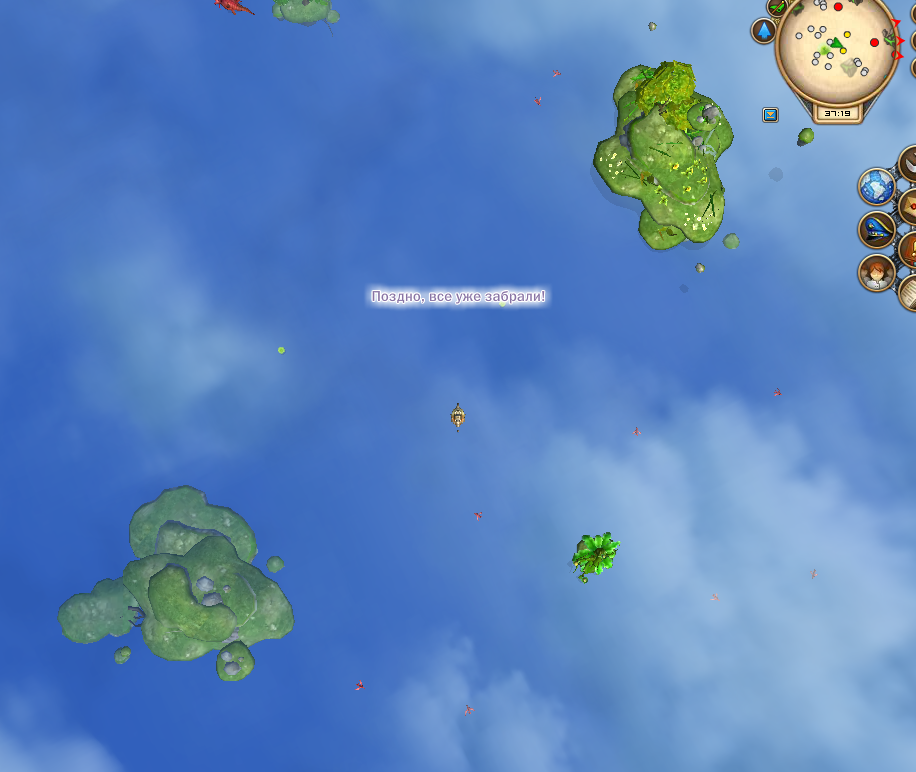dandelion-empty: (570, 525, 622, 586)
fluff: (274, 344, 288, 358), (497, 297, 508, 310)
